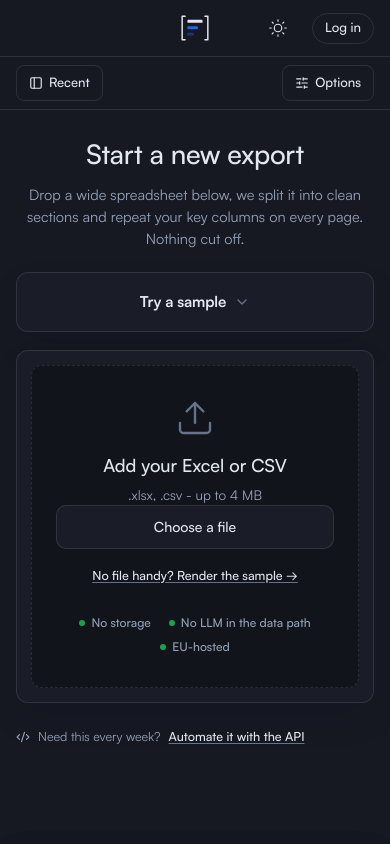
Test: /app workbench, mobile drawers (Phase 2) › clicking the scrim closes an open drawer
The image size is (390, 844).
Step 1. Click the button with aria-label "Open options panel" → (328, 83), box [282,65,374,101]
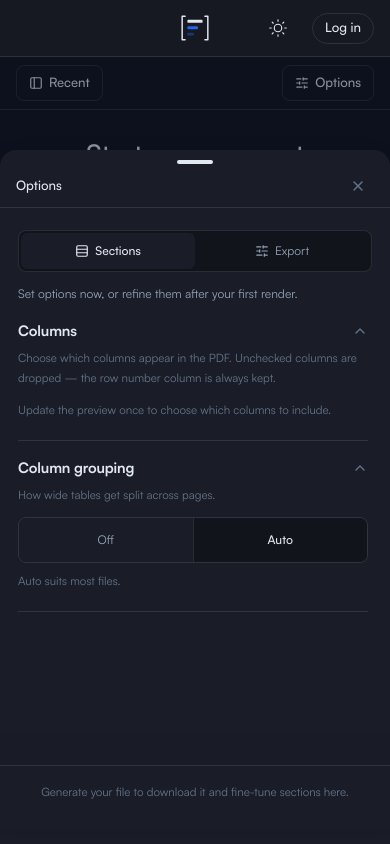
Step 2. Click the button named "Close panel" → (195, 104), box [0,57,389,843]
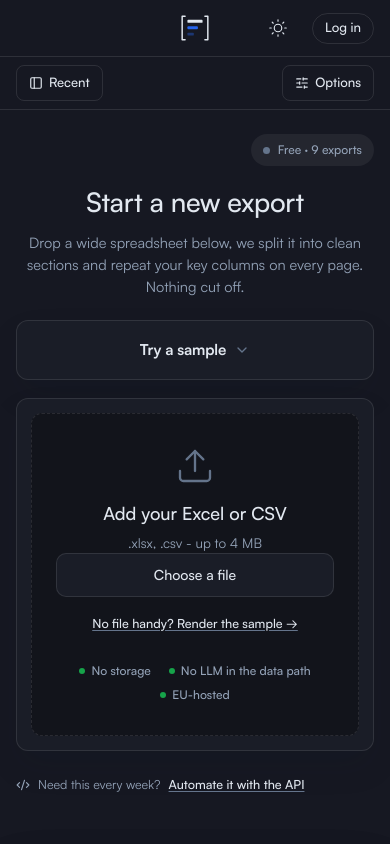
Now the button with aria-label "Open options panel" is collapsed, box [282,65,374,101]
